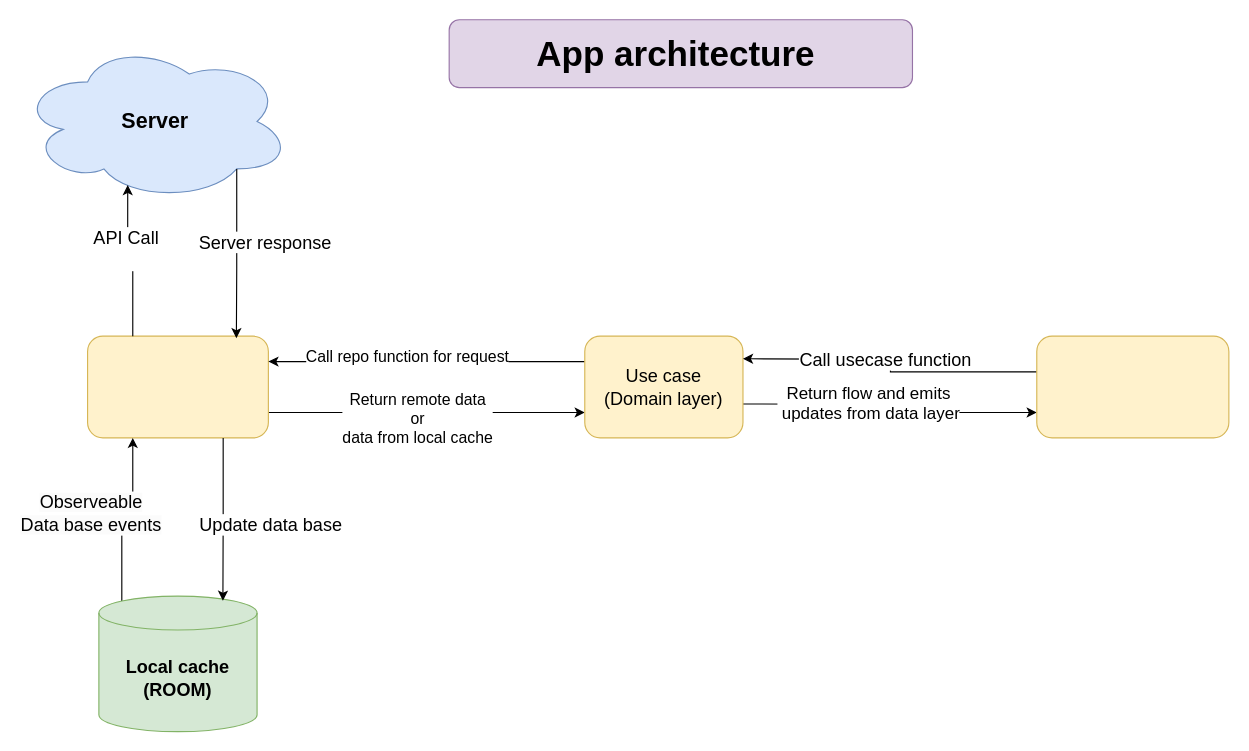
Some shapes in this 1249 by 751 pixel diagram are drawn without their labels. The shapes that lost their labels are listed below. From the top down, each one's centre as x and y in pixels, then its label:
point 177,386: Repository (Data layer)
point 1132,386: ViewModel and UI (UI layer)
